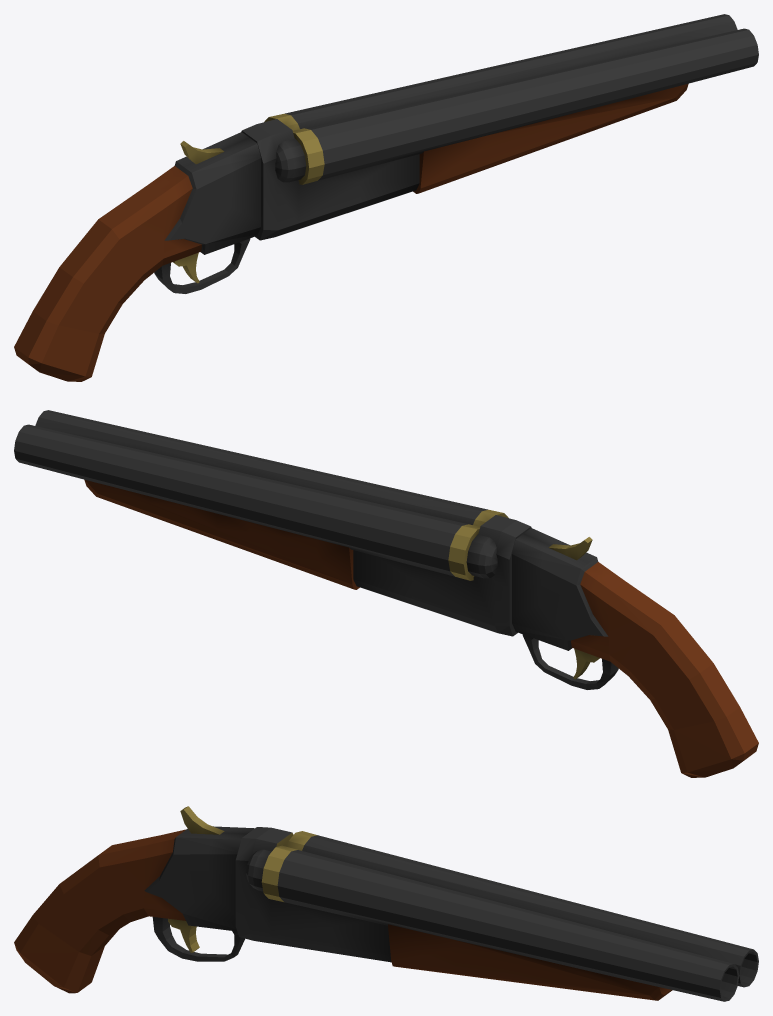
The model's file is v-hunter-shotgun-sawoff.glb.
The picture shows the model from 3 angles, top to bottom: view 1: azimuth 30°, elevation 25°; view 2: azimuth 150°, elevation 25°; view 3: azimuth 330°, elevation 25°; orthographic projection.
Visible parts, largest first — view 1: body; view 2: body; view 3: body.
Boxes of the visible parts, left/top/right/bottom form: body: left=14, top=14, right=758, bottom=381; body: left=14, top=410, right=758, bottom=777; body: left=14, top=806, right=758, bottom=1001.
Size of the model in its own units: 0.72 by 0.1991 by 0.0825.
